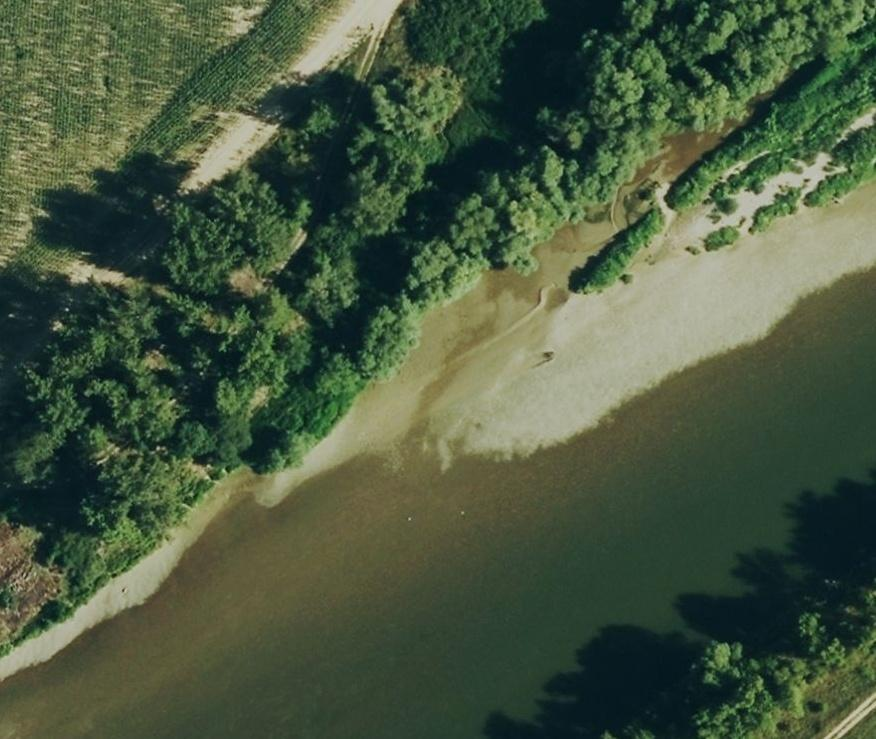field: (0, 0, 400, 269)
forest: (0, 0, 876, 589), (618, 587, 876, 738)
lake: (0, 270, 876, 737)
